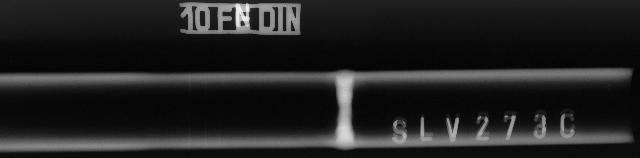PE: (342, 91, 348, 97)
